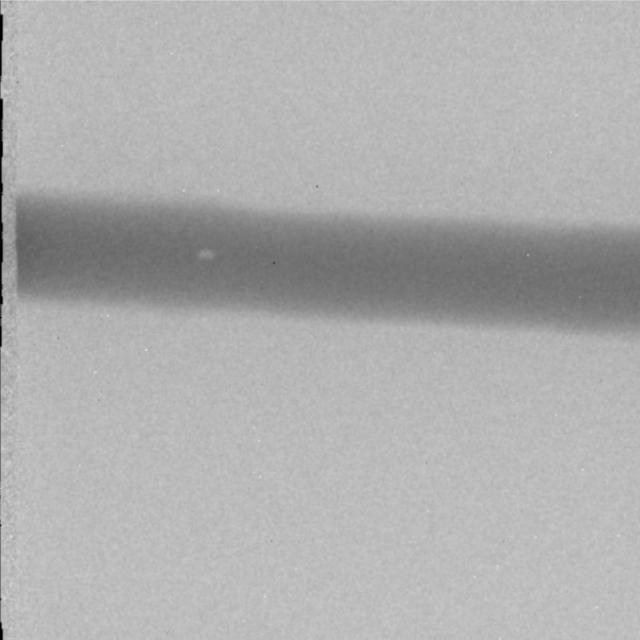air hole: (194, 247, 216, 263)
